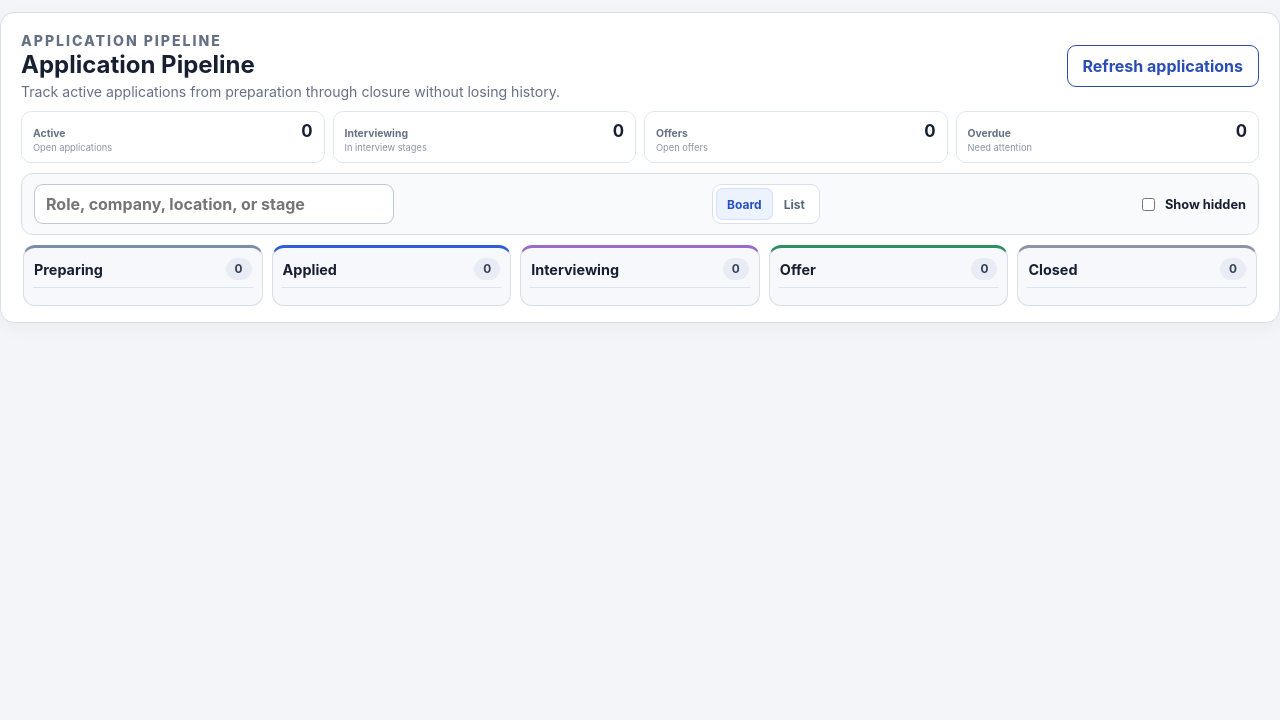
Test case: ApplicationDashboard › does not resurrect a deleted application if a stale pursued row is returned
What coordinates should you click on to do the following:
click the checkbox named "Show hidden applications"
I would click on:
 (1148, 204)
Its box is x1=1142 y1=198 x2=1155 y2=211.
(page scrolled)
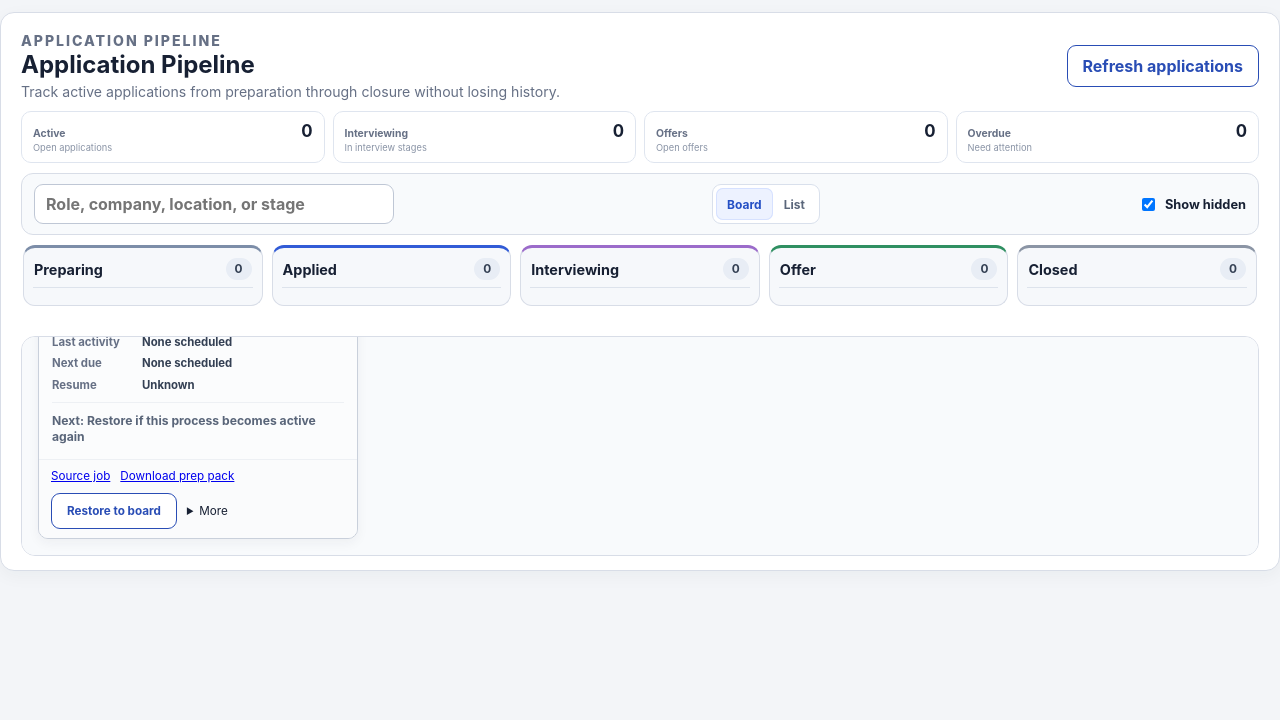
What coordinates should you click on to do the following:
click the heading "More"
I would click on:
 (214, 511)
Its box is x1=199 y1=504 x2=228 y2=518.
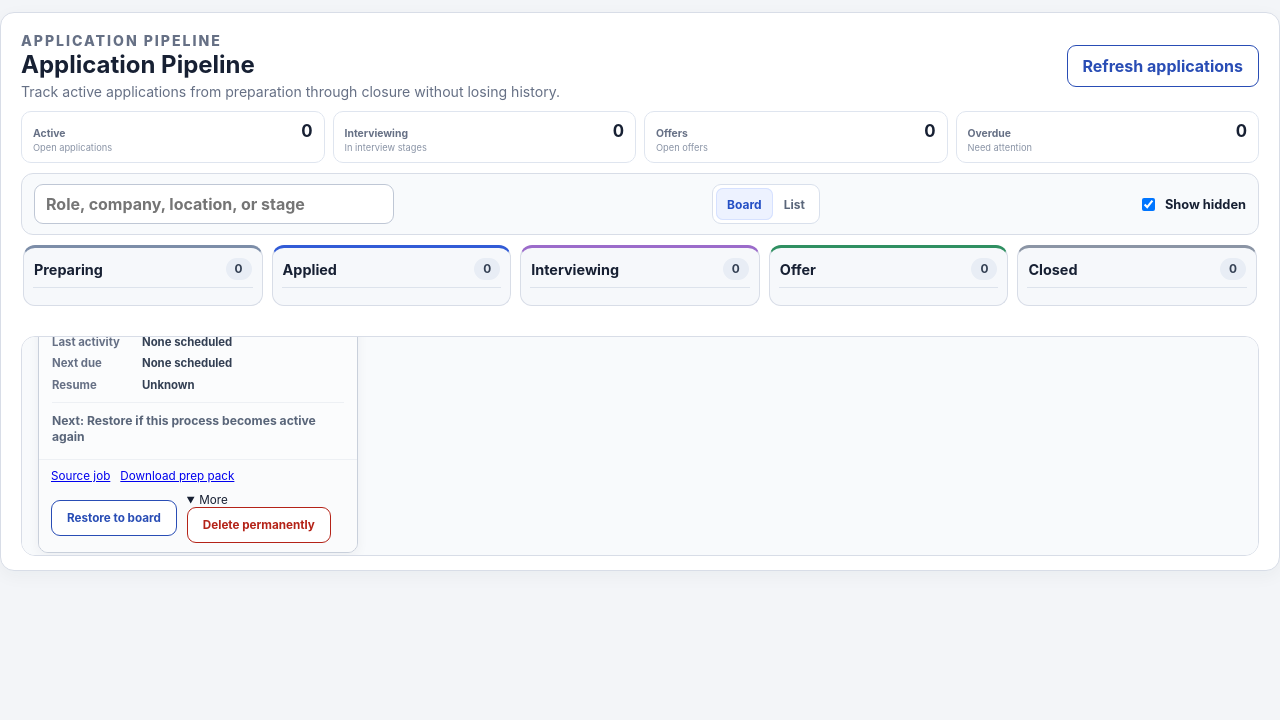
What coordinates should you click on to do the following:
click the button "Delete permanently"
I would click on:
 (259, 525)
Its box is x1=187 y1=507 x2=331 y2=543.
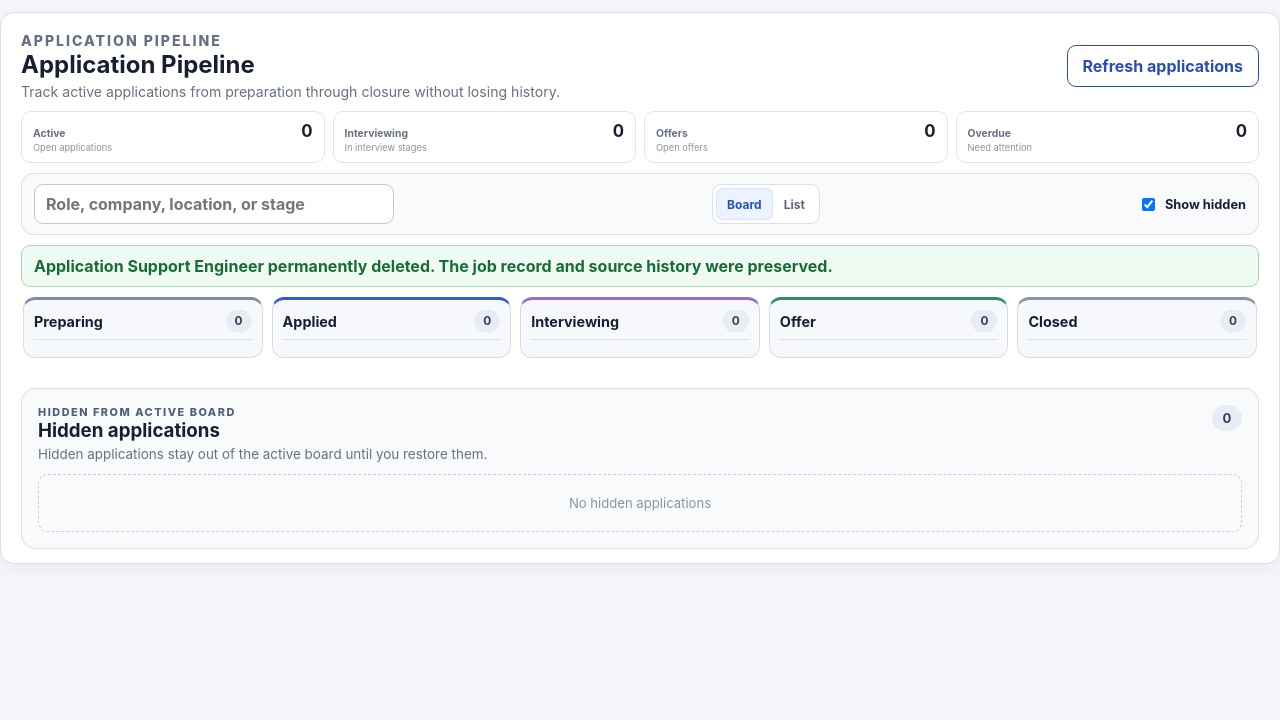
expect the text named "Preparing count" reads "0": met, box x1=235 y1=314 x2=243 y2=328
expect the text "Application Support Engineer permanently deleted" is shown: met, box x1=34 y1=256 x2=833 y2=276
